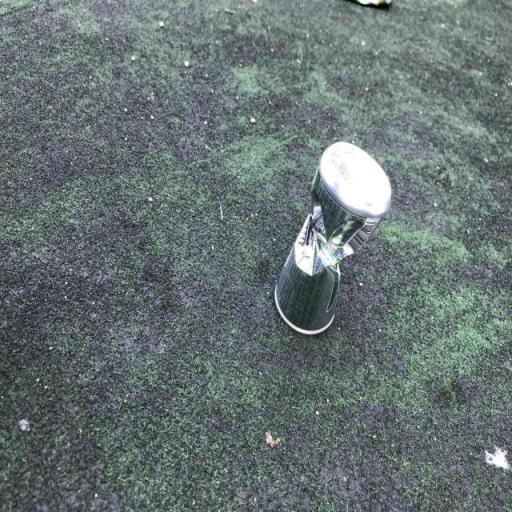metal: (269, 138, 391, 344)
